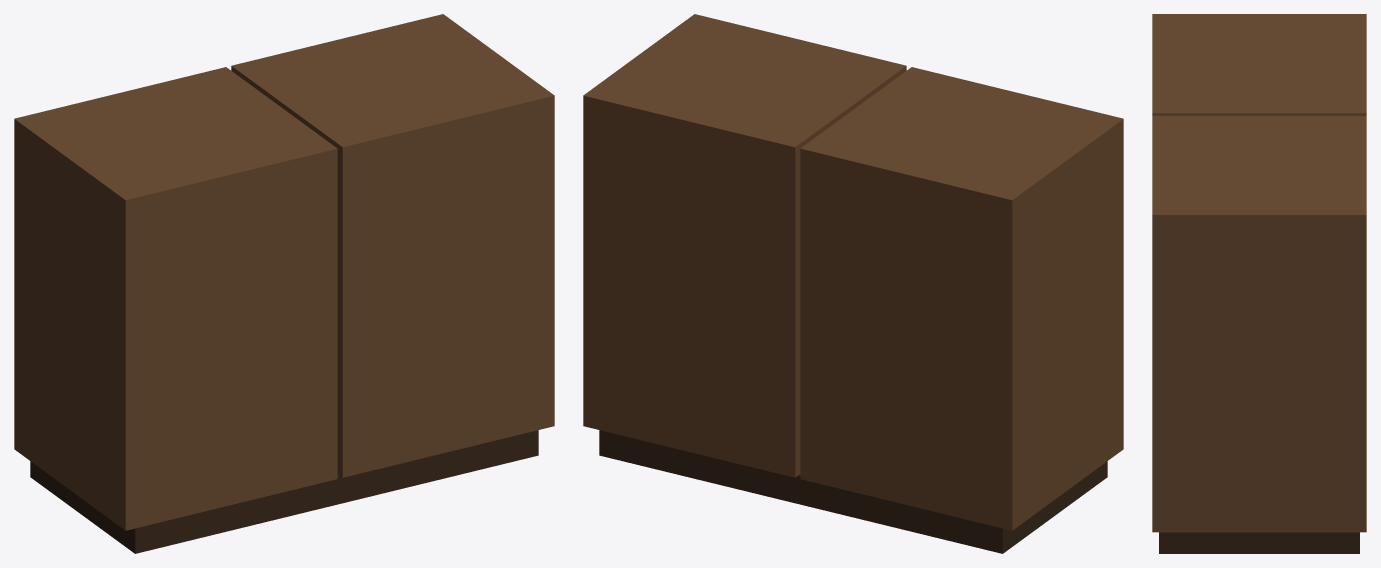
File: storage_chest_drawers.glb
3 views of the same model, side by side, from view 1: azimuth 30°, elevation 25°; view 2: azimuth 150°, elevation 25°; view 3: azimuth 270°, elevation 25° (orthographic). The views are drawn at different scales.
Parts seen in each view (by area): view 1: furniture; view 2: furniture; view 3: furniture.
Part boxes in pixels (x1,y1,x2,y2): furniture: (14,14,554,553); furniture: (583,14,1123,553); furniture: (1152,14,1366,553).
Bounding box in the file's own units: 1 × 0.8 × 0.45.
